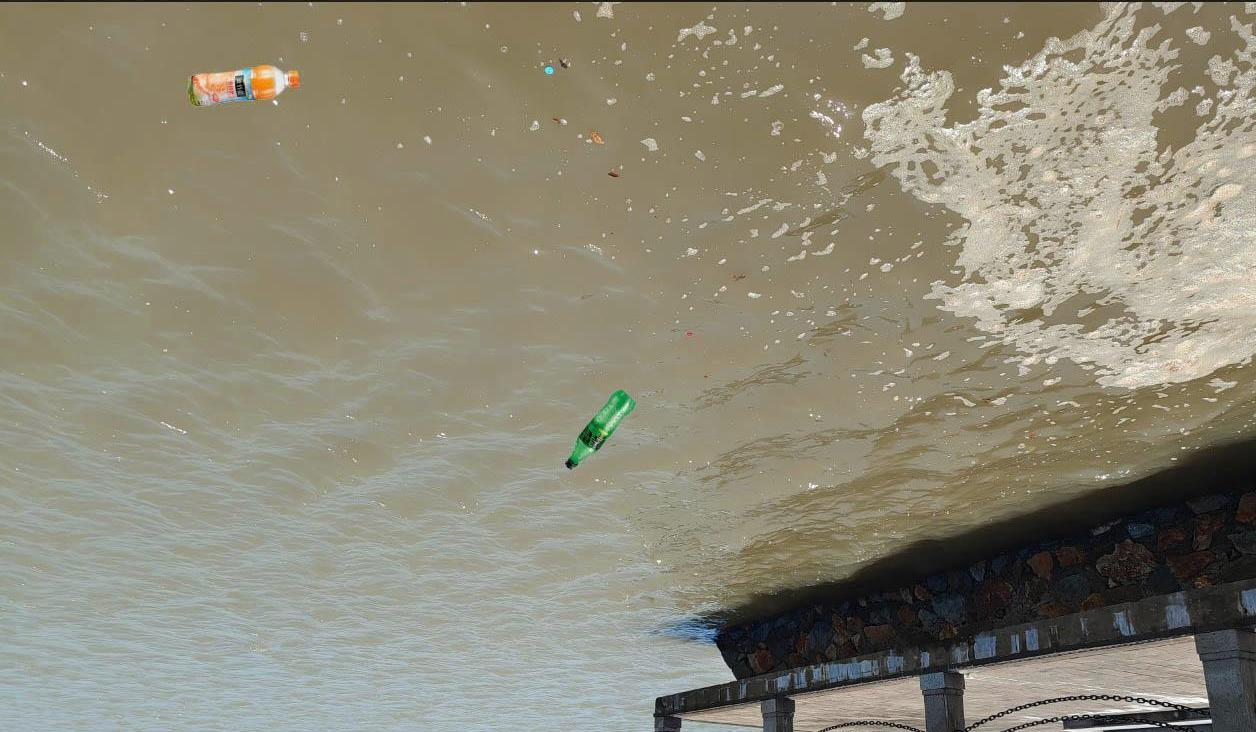Plastic: (565, 391, 634, 470), (189, 64, 302, 111)
